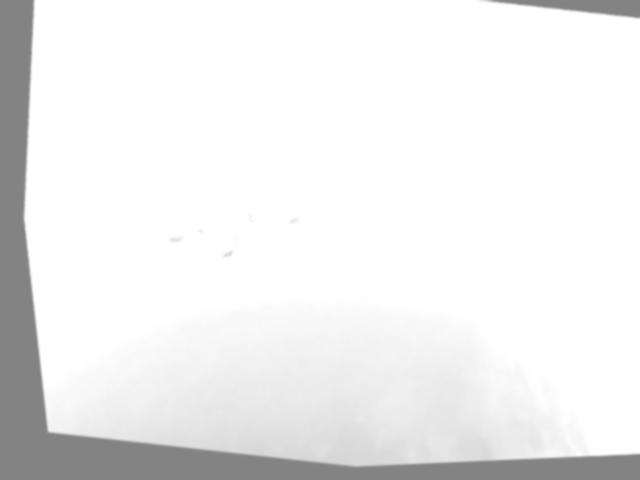hedef: (144, 175, 316, 297)
